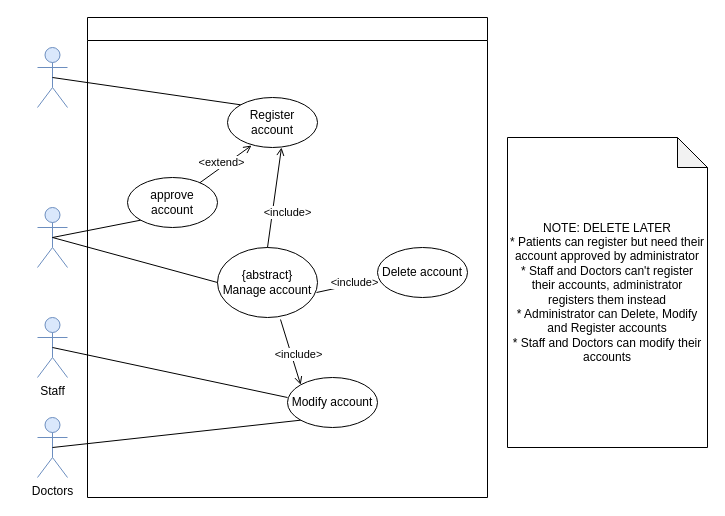
Image size: 725x516. Some labels were removed from this diagram. Each missing label, with the centre of its shape:
"Administrator" goes at point 52,237.
"Patients" goes at point 52,77.
"Registration" goes at point 287,257.
